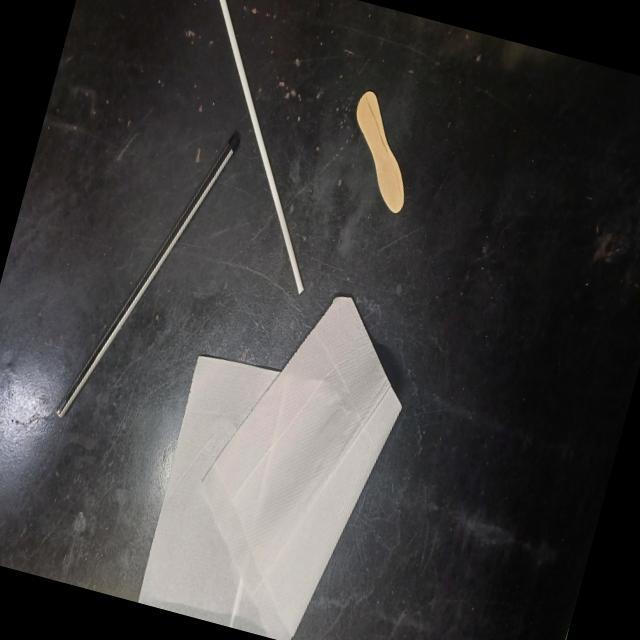Pencil-Bio: (51, 99, 243, 448)
Straw-NonBio: (208, 0, 310, 306)
Tissue Paper-Bio: (130, 262, 423, 640)
Wooden Spoon-Bio: (328, 82, 432, 220)
